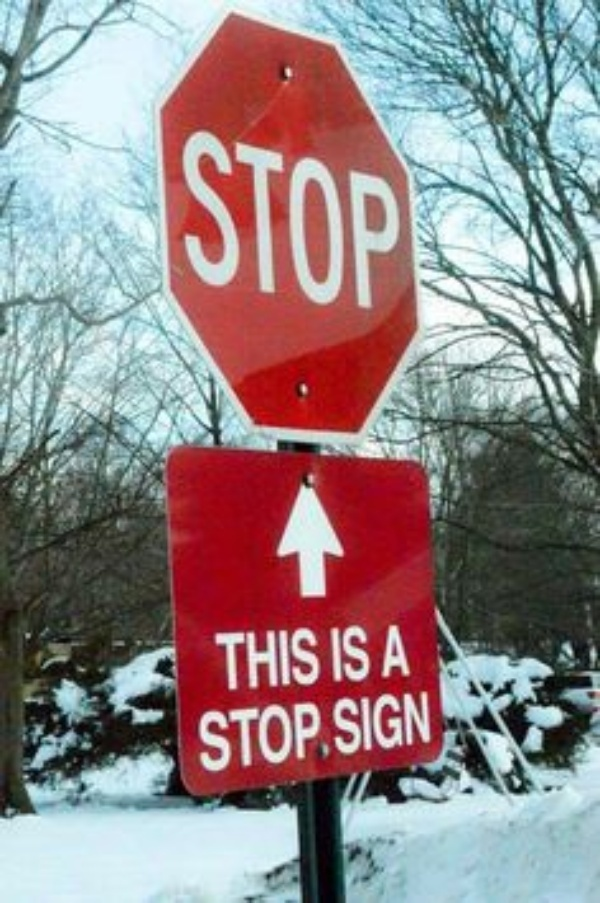text: (177, 120, 192, 318), (193, 120, 208, 318), (209, 120, 224, 318), (225, 120, 240, 318), (241, 120, 256, 318), (257, 120, 272, 318), (273, 120, 288, 318), (289, 120, 304, 318), (305, 120, 320, 318), (321, 120, 336, 318), (337, 120, 352, 318), (353, 120, 368, 318), (369, 120, 384, 318), (385, 120, 400, 318), (305, 697, 321, 774), (193, 697, 208, 774), (209, 697, 224, 774), (225, 697, 240, 774), (241, 697, 256, 774), (257, 697, 272, 774), (273, 697, 288, 774), (289, 697, 304, 774), (417, 687, 433, 756), (337, 687, 352, 756), (353, 687, 368, 756), (369, 687, 384, 756), (385, 687, 400, 756), (401, 687, 416, 756), (225, 624, 240, 692), (241, 624, 256, 692), (257, 624, 272, 692), (273, 624, 288, 692), (289, 624, 304, 692), (353, 624, 369, 685), (401, 621, 417, 680), (337, 624, 352, 685), (385, 621, 400, 680), (305, 624, 318, 692), (212, 624, 224, 692), (326, 624, 336, 685), (328, 687, 336, 756), (401, 120, 402, 318), (191, 697, 192, 774)
